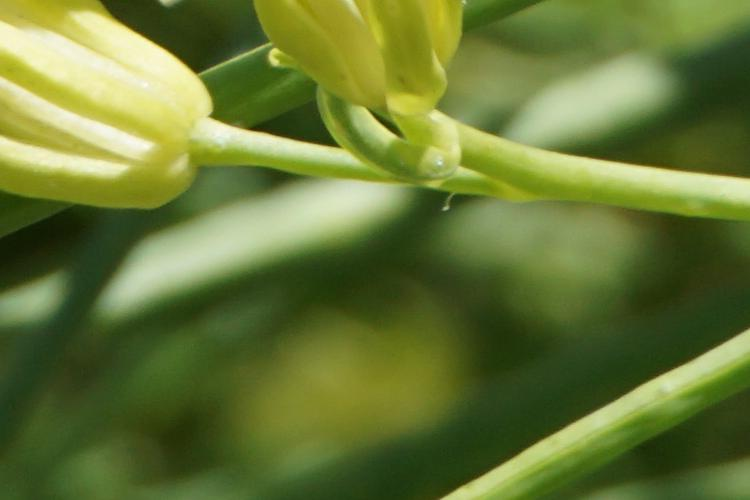yellow: (22, 16, 208, 248), (277, 1, 502, 185)
